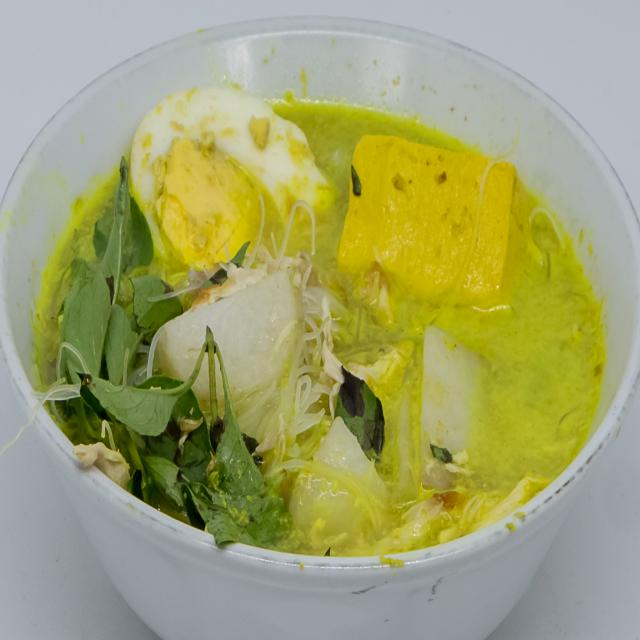Laksa-Bogor: (38, 54, 617, 578)
